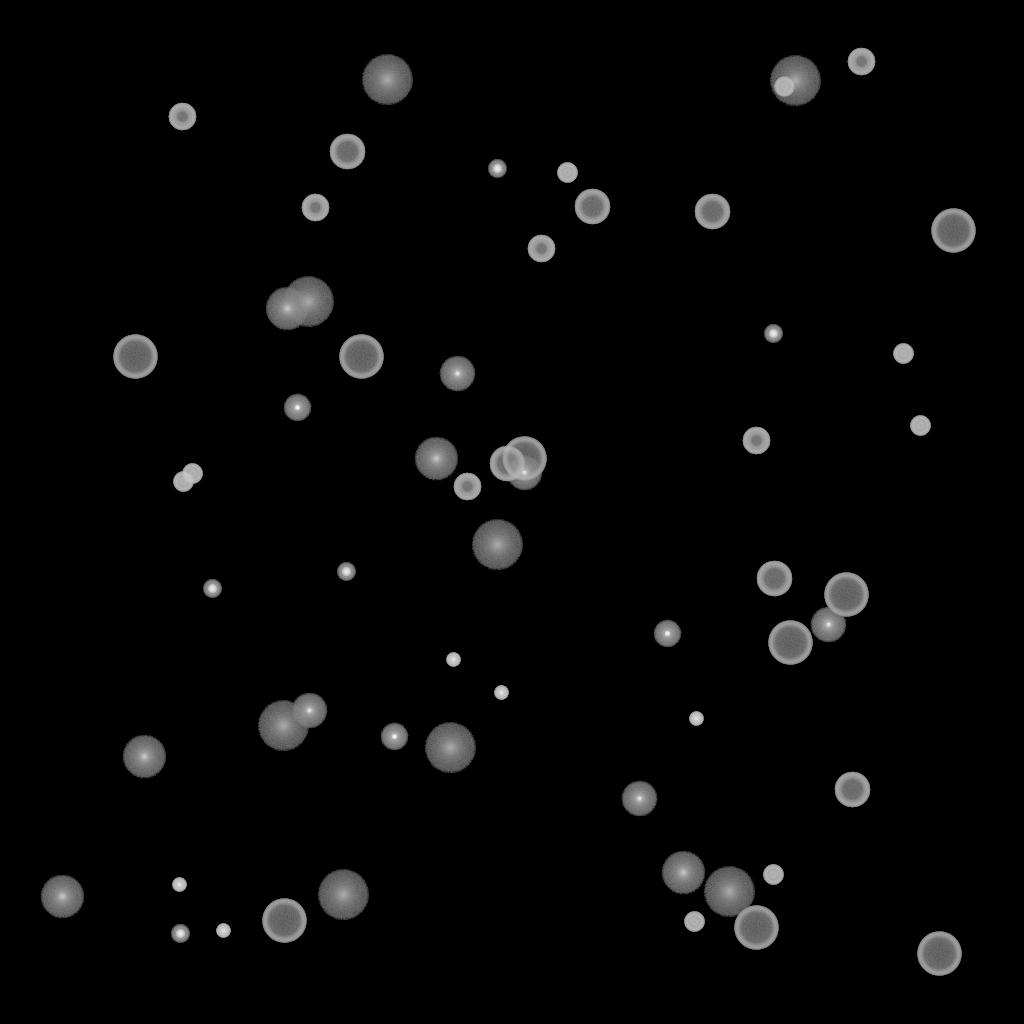depth:-10: (283, 394, 311, 422), (380, 723, 408, 751), (653, 620, 681, 648)
depth:-20: (337, 563, 355, 581), (171, 925, 189, 943), (203, 580, 221, 598), (764, 325, 782, 343), (488, 160, 506, 178)
depth:-30: (689, 712, 703, 726), (446, 653, 460, 667), (494, 686, 508, 700), (216, 924, 230, 938), (172, 878, 186, 892)
depth:-40: (173, 472, 193, 492), (763, 865, 783, 885), (182, 464, 202, 484), (910, 416, 930, 436), (893, 344, 913, 364), (774, 77, 794, 97), (684, 912, 704, 932), (557, 163, 577, 183)
depth:-50: (742, 427, 770, 455), (847, 48, 875, 76), (301, 194, 329, 222), (453, 473, 481, 501), (168, 103, 196, 131), (527, 235, 555, 263)
depth:-60: (574, 189, 610, 225), (834, 772, 870, 808), (756, 561, 792, 597), (329, 134, 365, 170), (489, 446, 525, 482), (694, 194, 730, 230)
depth:-70: (824, 573, 868, 617), (339, 335, 383, 379), (734, 906, 778, 950), (113, 335, 157, 379), (917, 932, 961, 976), (931, 209, 975, 253), (768, 621, 812, 665), (502, 437, 546, 481), (262, 899, 306, 943)
depth:0: (291, 693, 327, 729), (621, 781, 657, 817), (810, 607, 846, 643), (439, 356, 475, 392), (506, 455, 542, 491)
depth:10: (265, 287, 309, 331), (40, 875, 84, 919), (661, 851, 705, 895), (414, 437, 458, 481), (122, 735, 166, 779)
depth:20: (424, 723, 476, 773), (317, 870, 369, 920), (257, 701, 309, 751), (471, 520, 523, 570), (769, 56, 821, 106), (703, 867, 755, 917), (361, 55, 413, 105), (282, 277, 334, 327)
